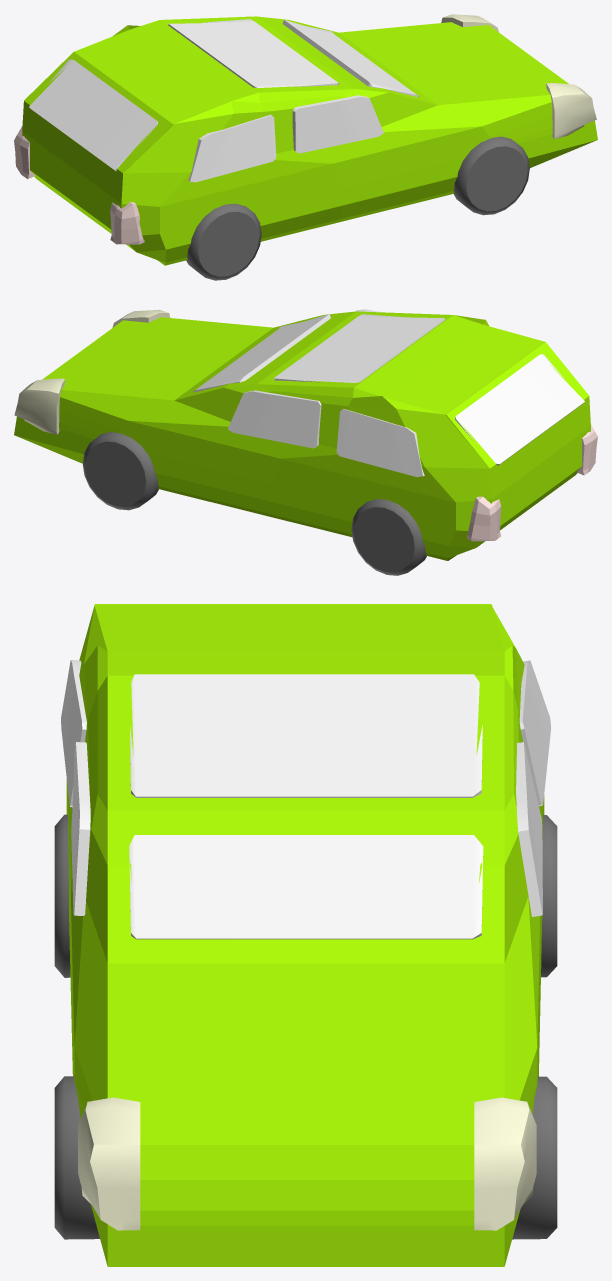
File: CarroVerde.fbx
3 views of the same model, one above another, from view 1: azimuth 30°, elevation 25°; view 2: azimuth 150°, elevation 25°; view 3: azimuth 270°, elevation 25° (orthographic). The views are drawn at different scales.
Visible parts, largest first — view 1: pCube1, pCube10, pCube15, pCylinder1, pCylinder2, pCube8, pCube13, pCube6, pCube9, pCube11; view 2: pCube1, pCube10, pCube15, pCylinder3, pCylinder4, pCube12, pCube14, pCube6, pCube9, pCube11; view 3: pCube1, pCube15, pCube6, pCube9, pCylinder1, pCylinder3, pCube12, pCube14, pCube8, pCylinder4, pCylinder2, pCube13.
Part boxes in pixels (<box>): pCube1: <box>22,16,597,265</box>; pCube10: <box>29,59,157,170</box>; pCube15: <box>168,19,339,87</box>; pCylinder1: <box>454,136,529,215</box>; pCylinder2: <box>186,203,261,280</box>; pCube8: <box>292,95,383,153</box>; pCube13: <box>188,114,276,182</box>; pCube6: <box>282,20,418,97</box>; pCube9: <box>441,14,596,139</box>; pCube11: <box>14,126,144,244</box>; pCube1: <box>14,311,590,560</box>; pCube10: <box>455,354,584,465</box>; pCube15: <box>274,314,445,382</box>; pCylinder3: <box>82,432,158,510</box>; pCylinder4: <box>351,499,426,575</box>; pCube12: <box>228,390,321,448</box>; pCube14: <box>336,409,424,476</box>; pCube6: <box>193,314,330,392</box>; pCube9: <box>14,309,170,434</box>; pCube11: <box>467,425,597,541</box>; pCube1: <box>66,604,544,1266</box>; pCube15: <box>130,674,482,797</box>; pCube6: <box>129,835,483,939</box>; pCube9: <box>78,1097,536,1230</box>; pCylinder1: <box>54,1076,99,1239</box>; pCylinder3: <box>512,1076,557,1239</box>; pCube12: <box>516,742,542,916</box>; pCube14: <box>519,660,551,806</box>; pCube8: <box>71,742,90,915</box>; pCylinder4: <box>541,815,557,977</box>; pCylinder2: <box>54,814,70,977</box>; pCube13: <box>61,660,86,807</box>.
Bounding box in the file's own units: 24.46 × 8.28 × 11.09.
